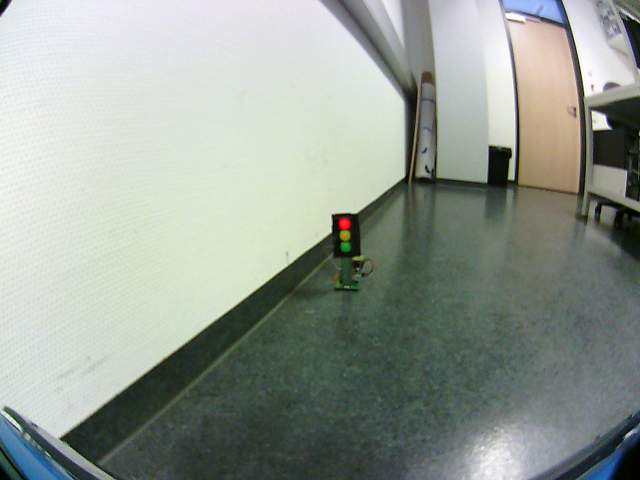red trafficlight: (334, 216, 356, 253)
